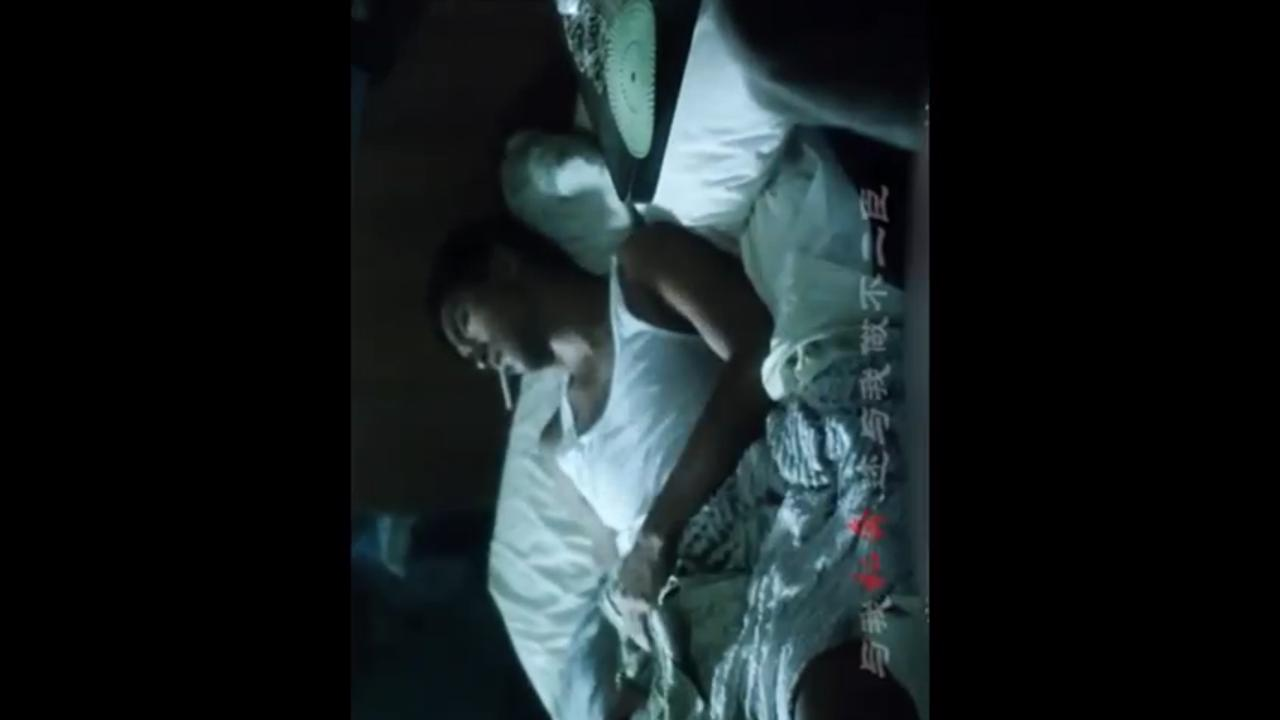Cigarette: (496, 360, 514, 410)
Smoke: (421, 233, 886, 720)
